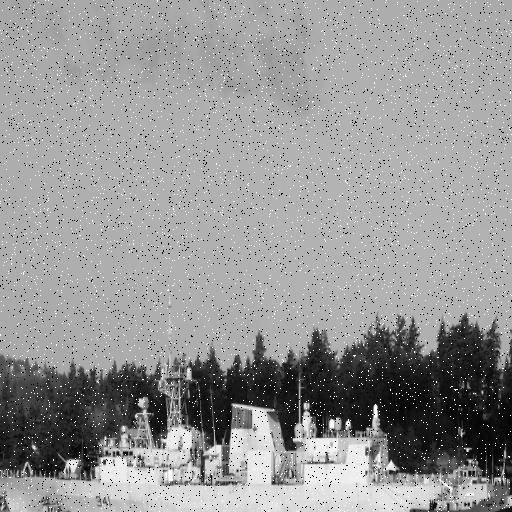Fragata: (1, 289, 495, 512)
